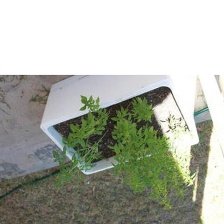foam_box: (35, 74, 204, 177)
